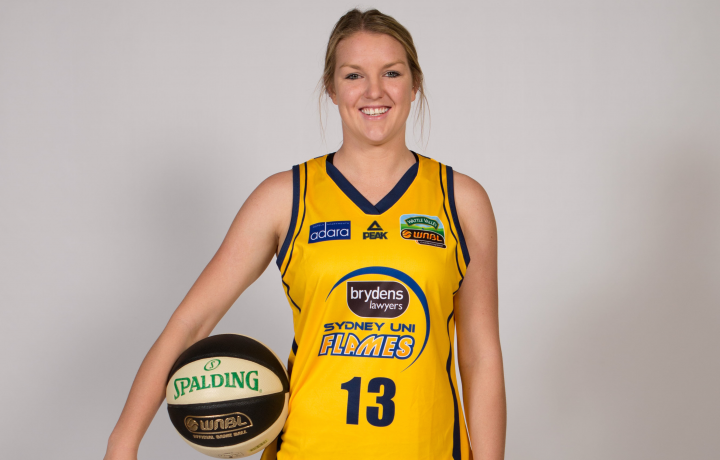ball: (165, 333, 291, 457)
player: (108, 10, 506, 460)
